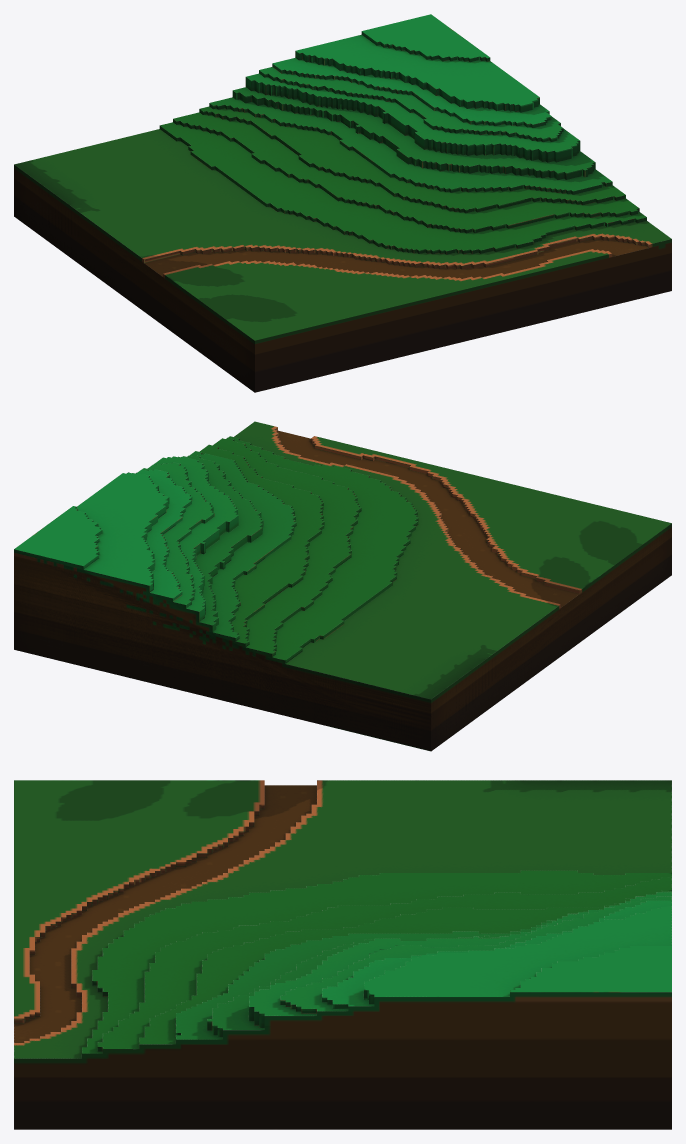
3 views of the same model, one above another, from view 1: azimuth 30°, elevation 25°; view 2: azimuth 150°, elevation 25°; view 3: azimuth 270°, elevation 25° (orthographic). The views are drawn at different scales.
Visible parts, largest first — view 1: _E; view 2: _E; view 3: _E.
Boxes of the visible parts, box(x1,y1,x2,y2) form: _E: box(14, 14, 671, 392); _E: box(14, 421, 671, 751); _E: box(14, 780, 671, 1129).
Bounding box in the file's own units: 126 × 126 × 29.
1 material, 1 textured.
